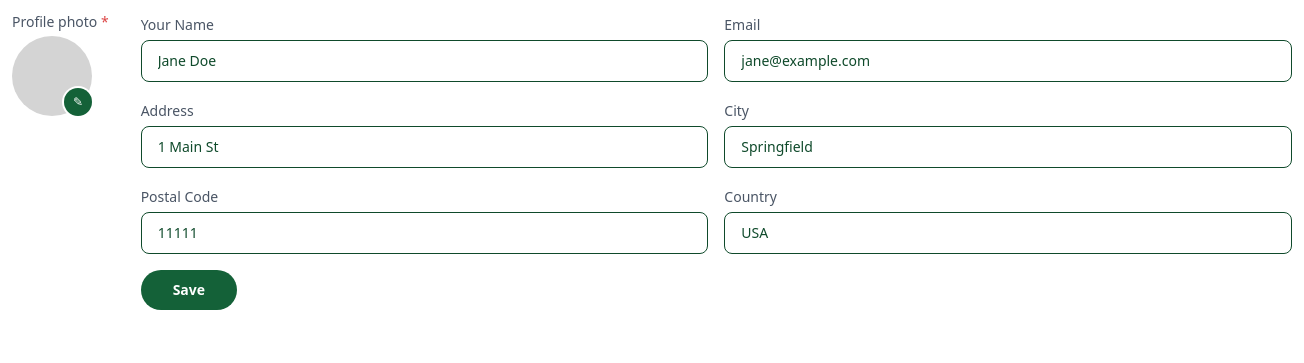
Test: ProfileForm › does not navigate when saving fails
Click the button "Save".
click(189, 290)  # box [141,270,237,310]
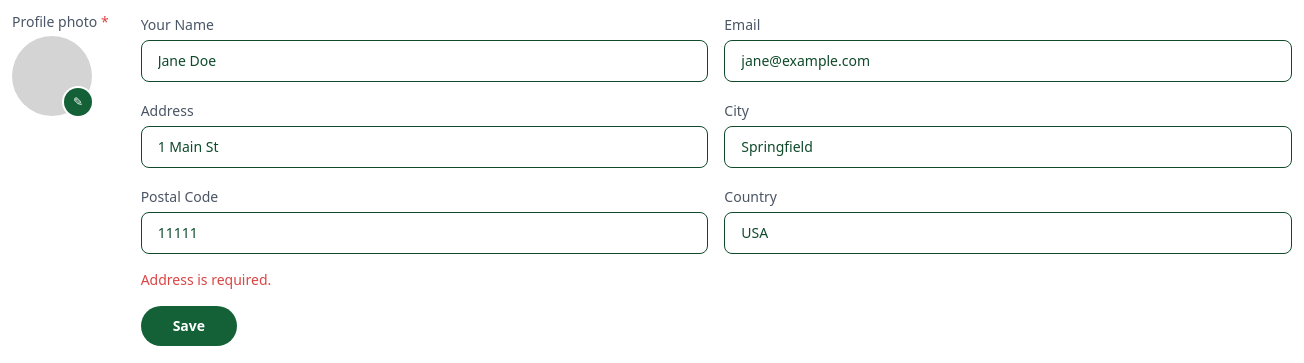
Expected: the text "Address is required." is shown, [141,270,271,289]
